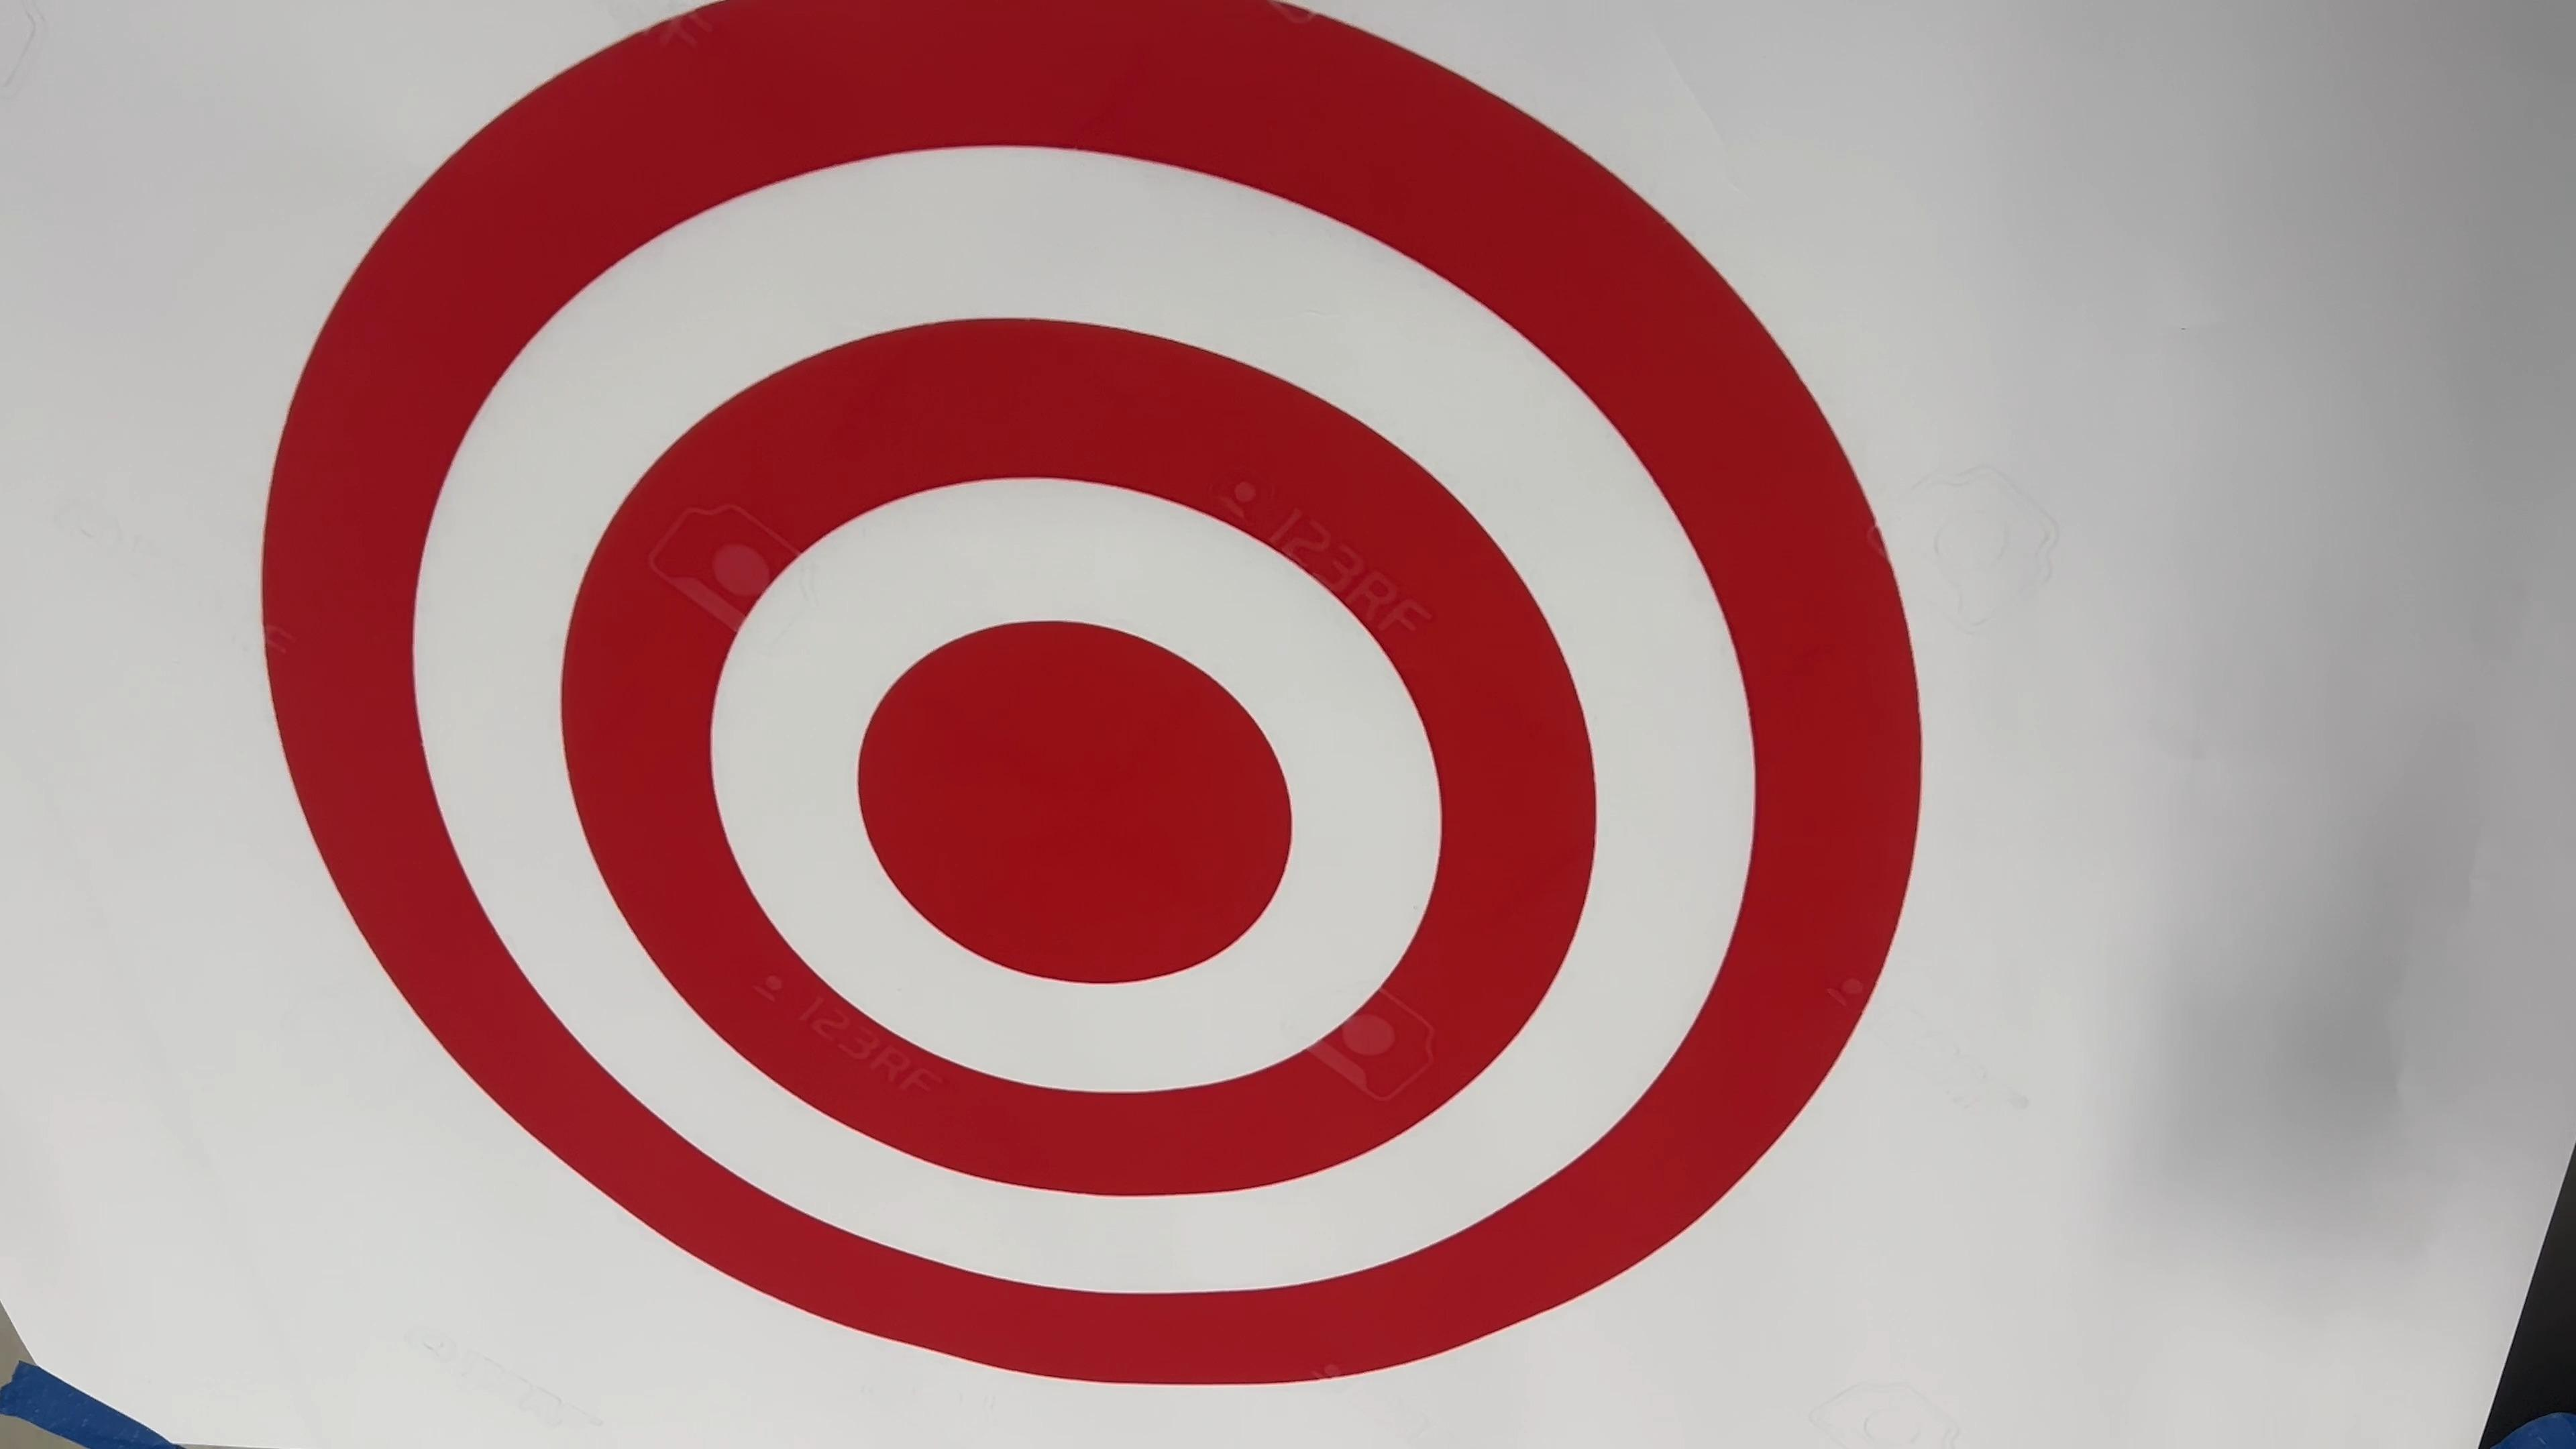target_red: (182, 0, 1999, 1399)
